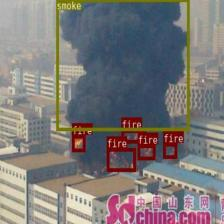fire: (106, 148, 135, 171), (121, 129, 145, 142), (137, 144, 155, 159), (71, 134, 85, 152), (163, 143, 177, 158)
smoke: (56, 0, 189, 130)
